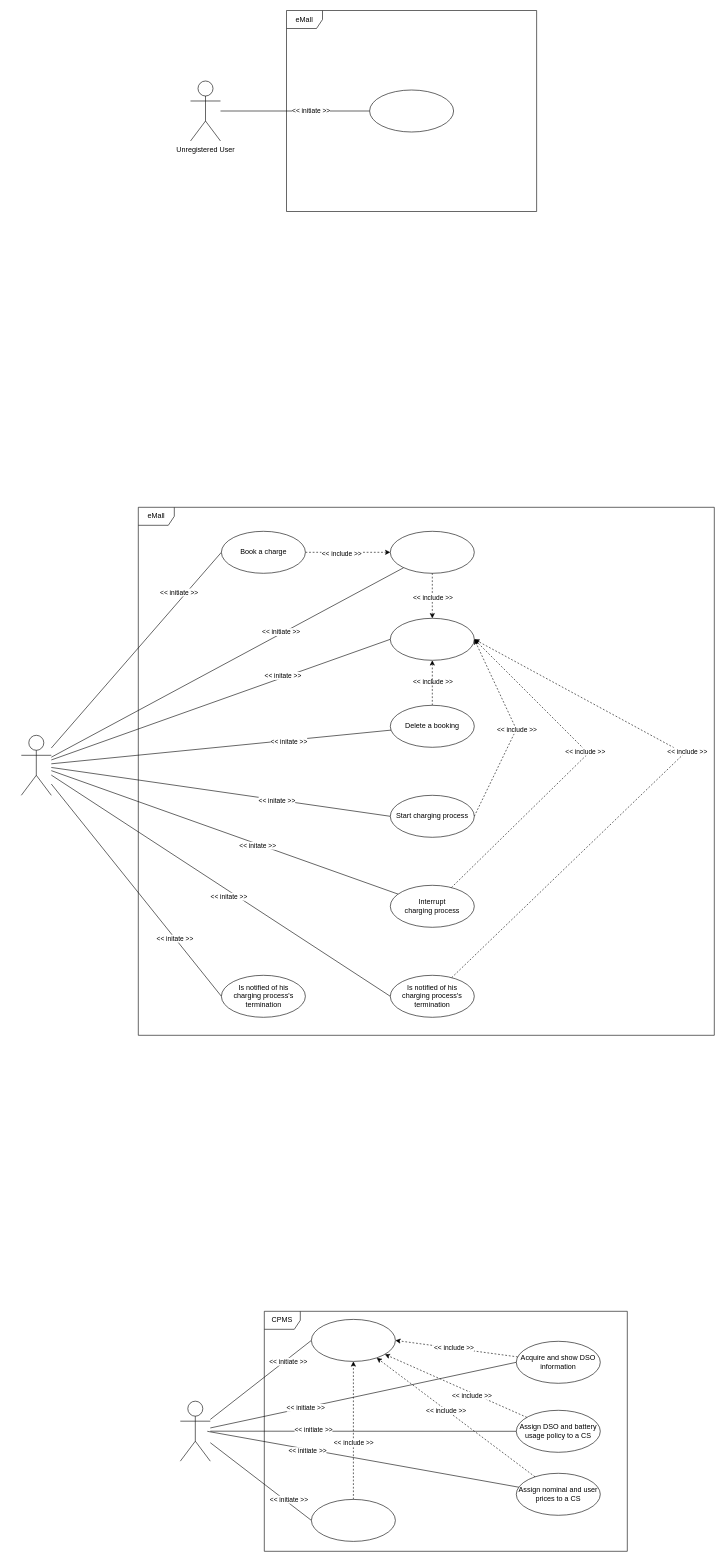
Some shapes in this 725 by 1562 pixel diagram are drawn without their labels. The centre of each missing label's shape, as x and y in pixels:
Authenticate: point 353,1340
CPO: point 195,1431
Login: point 432,639
Register: point 411,110
Registered User: point 36,765
Search for CSs: point 432,552
Toggle CPMS operating mode: point 353,1520
